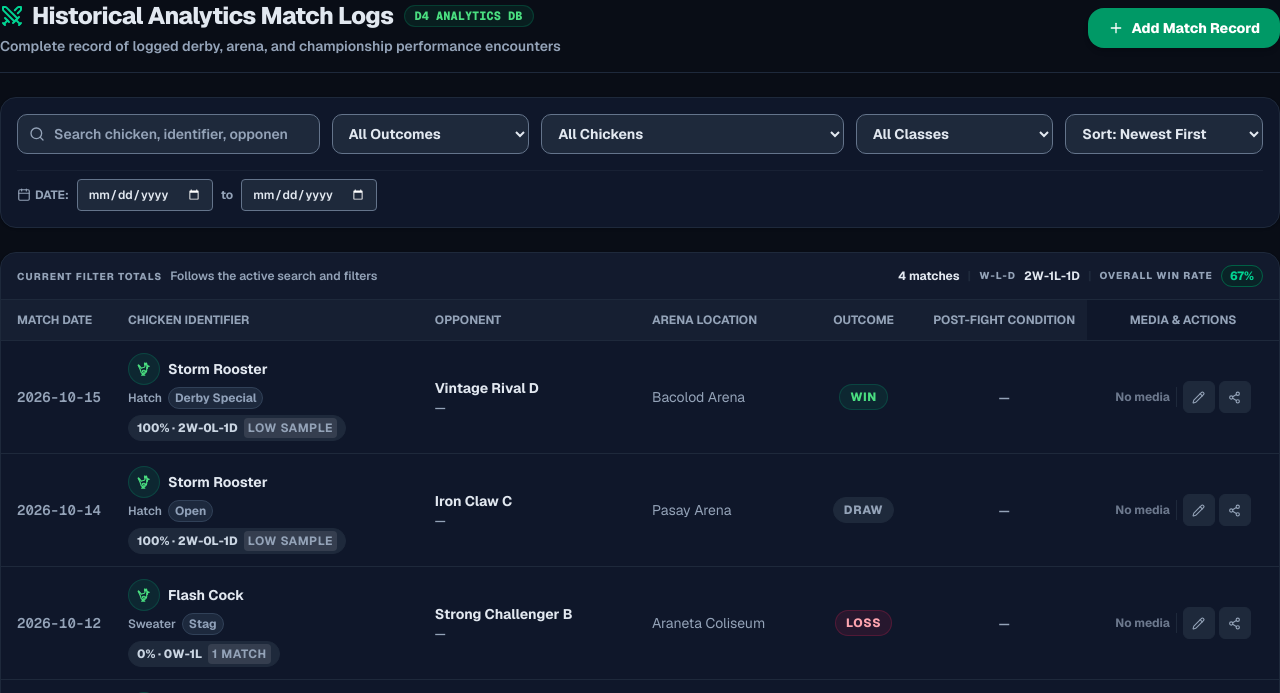
Test case: MatchLogsView › filters matches by chicken class (Open)
Note: Filter to Open
Step 1. Select "Open" in the dropdown named "Filter by chicken class" → x=955, y=134, box [856,114,1053,154]
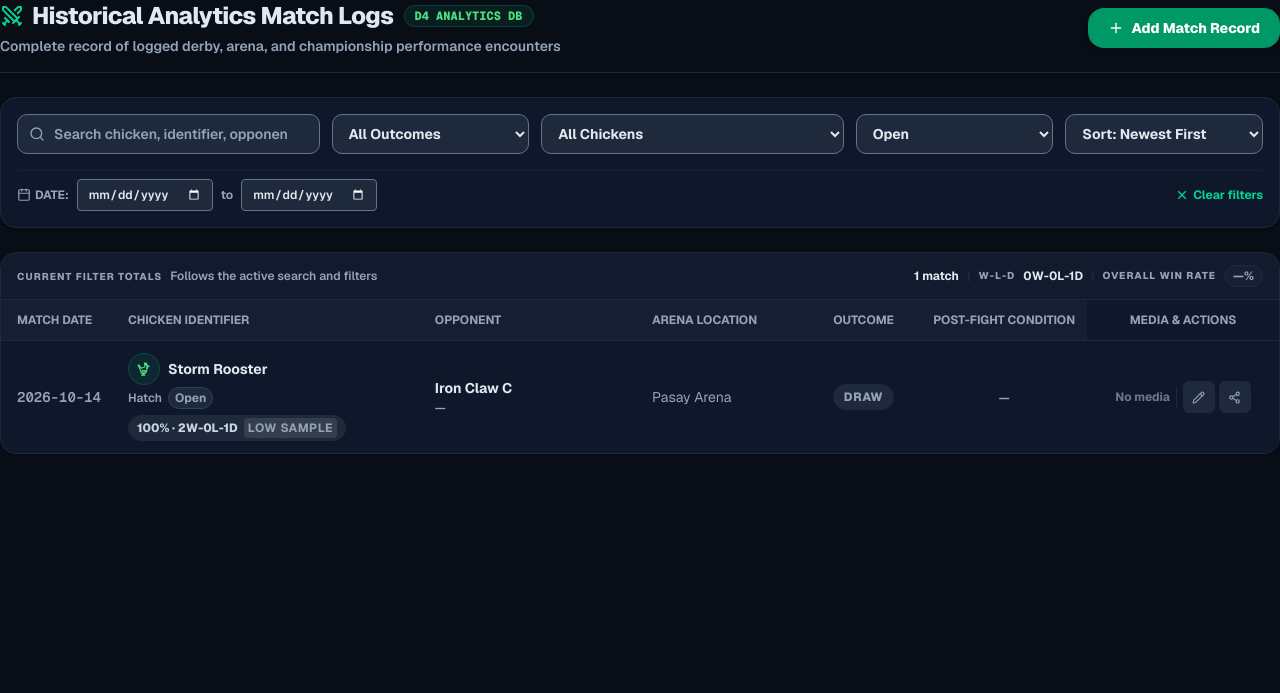
Expected: the text "Iron Claw C" is shown, [435,378,512,398]
Expected: the text "Strong Challenger B" is gone
